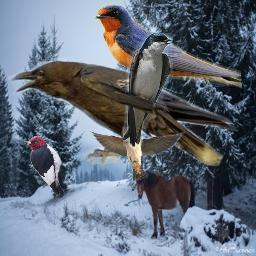Crow: (7, 55, 238, 166)
Swallow: (91, 1, 242, 92), (123, 33, 173, 147), (86, 126, 185, 181)
Woodpecker: (22, 136, 63, 196)
